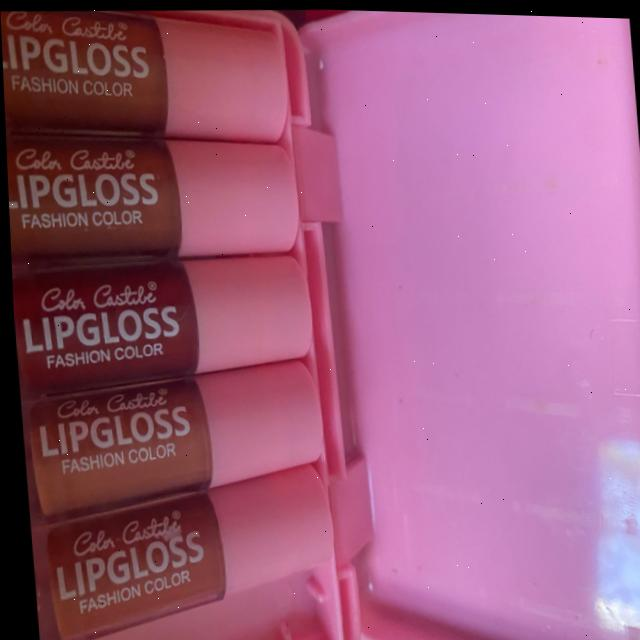lip gloss: (9, 245, 330, 509), (0, 1, 300, 261), (23, 488, 344, 640)
